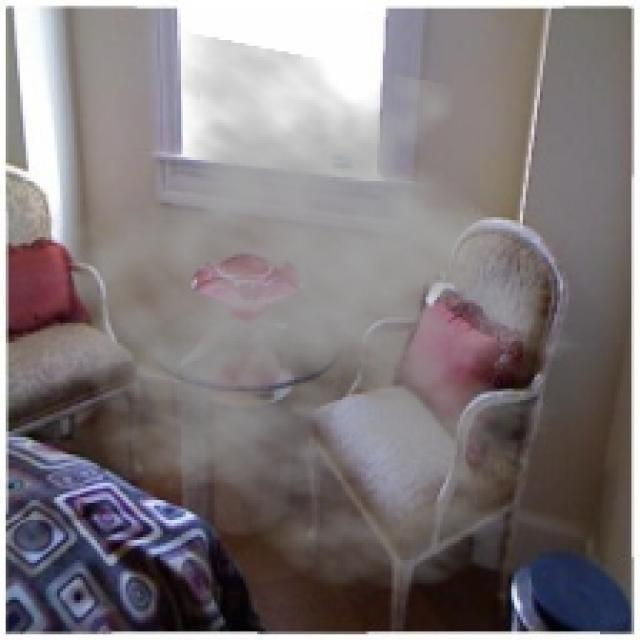Smoke: (37, 32, 603, 594)
